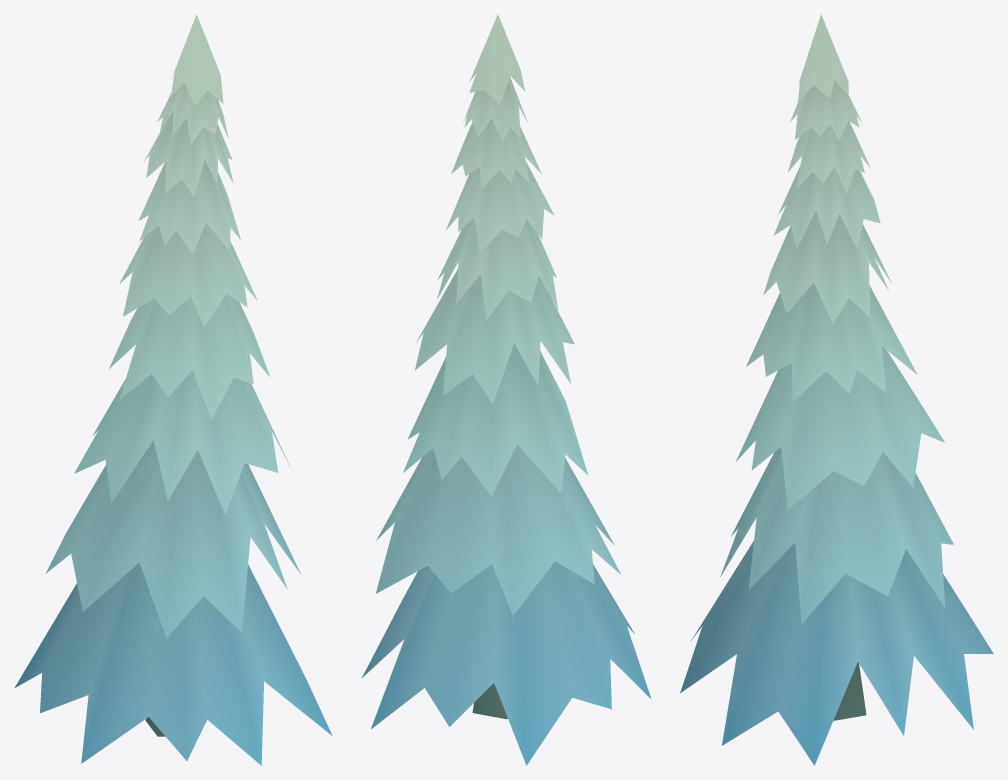
File: prop-spruce_3.glb
3 views of the same model, side by side, from view 1: azimuth 30°, elevation 25°; view 2: azimuth 150°, elevation 25°; view 3: azimuth 270°, elevation 25° (orthographic). The views are drawn at different scales.
Parts seen in each view (by area): view 1: prop-spruce3; view 2: prop-spruce3; view 3: prop-spruce3.
Boxes of the visible parts, x1=… form: prop-spruce3: x1=14, y1=14, x2=332, y2=765; prop-spruce3: x1=362, y1=14, x2=651, y2=765; prop-spruce3: x1=680, y1=14, x2=993, y2=765.
Size of the model in its own units: 4.51 by 12.16 by 4.94.
